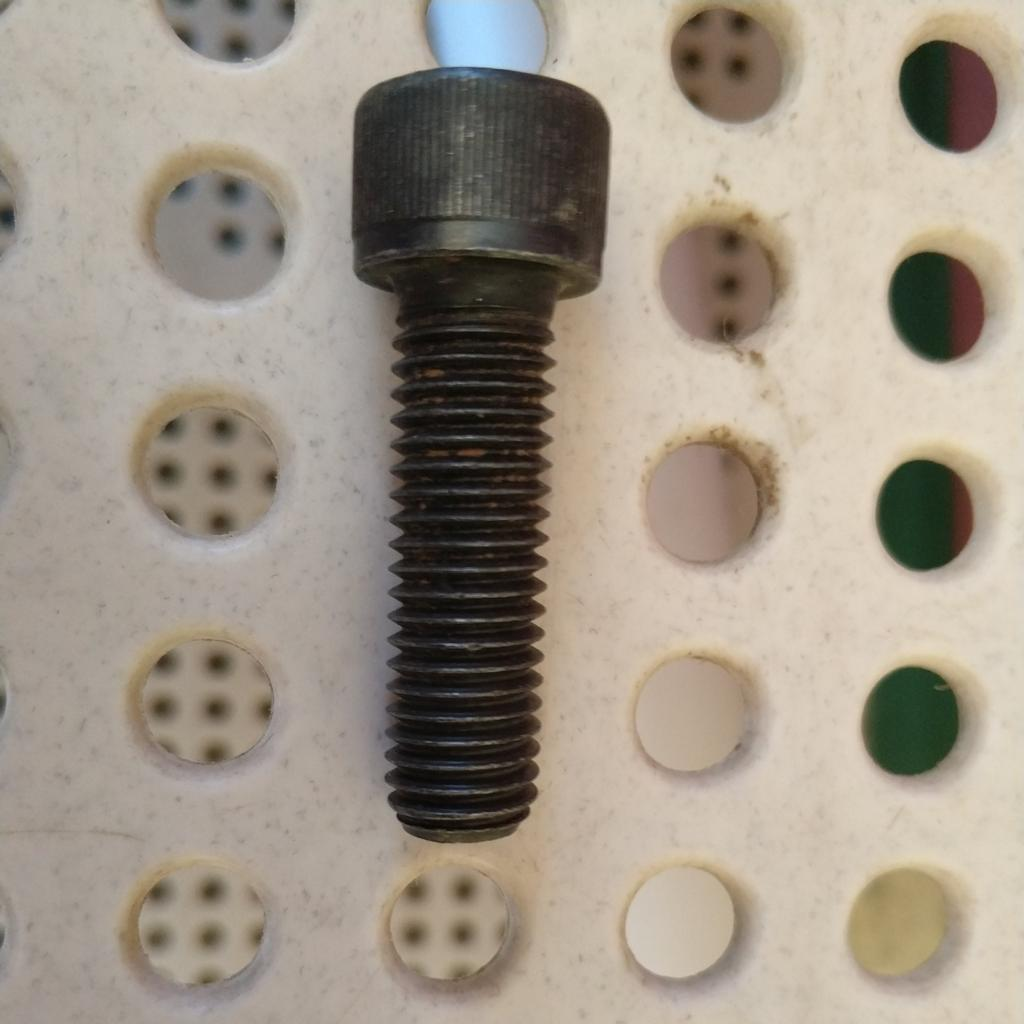screwtype1black: (342, 60, 622, 851)
